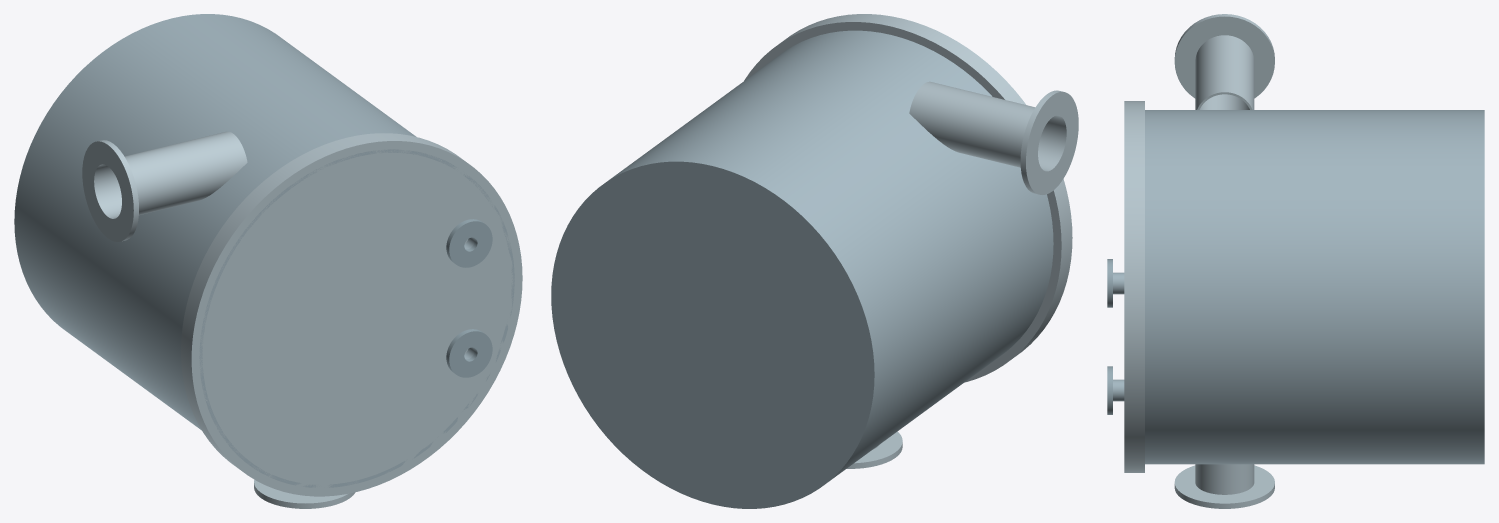
The picture shows the model from 3 angles, left to right: view 1: azimuth 30°, elevation 25°; view 2: azimuth 150°, elevation 25°; view 3: azimuth 270°, elevation 25°; orthographic projection. The views are drawn at different scales.
Visible parts, largest first — view 1: 槽盖_盖板, 本体_筒壳, 接口_西侧偏北接管, 接口_西侧偏北法兰, 接口_上盖法兰圈, 接口_顶盖法兰01, 接口_顶盖法兰02, 接口_南侧出口法兰; view 2: 本体_平底, 本体_筒壳, 接口_西侧偏北接管, 接口_上盖法兰圈, 接口_西侧偏北法兰, 槽盖_盖板, 接口_南侧出口法兰; view 3: 本体_筒壳, 接口_上盖法兰圈, 接口_西侧偏北接管, 槽盖_盖板, 接口_西侧偏北法兰, 接口_南侧出口法兰, 接口_南侧出口接管.
Part boxes in pixels (left/top/right/bottom): 槽盖_盖板: left=186, top=137, right=522, bottom=496; 本体_筒壳: left=14, top=14, right=514, bottom=487; 接口_西侧偏北接管: left=99, top=131, right=247, bottom=217; 接口_西侧偏北法兰: left=82, top=140, right=138, bottom=241; 接口_上盖法兰圈: left=181, top=133, right=458, bottom=464; 接口_顶盖法兰01: left=446, top=329, right=492, bottom=377; 接口_顶盖法兰02: left=446, top=219, right=492, bottom=267; 接口_南侧出口法兰: left=254, top=480, right=355, bottom=508; 本体_平底: left=554, top=165, right=871, bottom=505; 本体_筒壳: left=551, top=30, right=1053, bottom=508; 接口_西侧偏北接管: left=909, top=81, right=1061, bottom=169; 接口_上盖法兰圈: left=744, top=17, right=1068, bottom=382; 接口_西侧偏北法兰: left=1020, top=90, right=1078, bottom=194; 槽盖_盖板: left=786, top=14, right=1072, bottom=352; 接口_南侧出口法兰: left=846, top=431, right=902, bottom=468; 本体_筒壳: left=1145, top=110, right=1484, bottom=464; 接口_上盖法兰圈: left=1131, top=101, right=1144, bottom=472; 接口_西侧偏北接管: left=1195, top=35, right=1254, bottom=109; 槽盖_盖板: left=1124, top=101, right=1134, bottom=472; 接口_西侧偏北法兰: left=1174, top=14, right=1274, bottom=98; 接口_南侧出口法兰: left=1174, top=465, right=1274, bottom=508; 接口_南侧出口接管: left=1195, top=464, right=1254, bottom=494.
Bounding box in the file's own units: 1.38 × 1.42 × 1.28.
